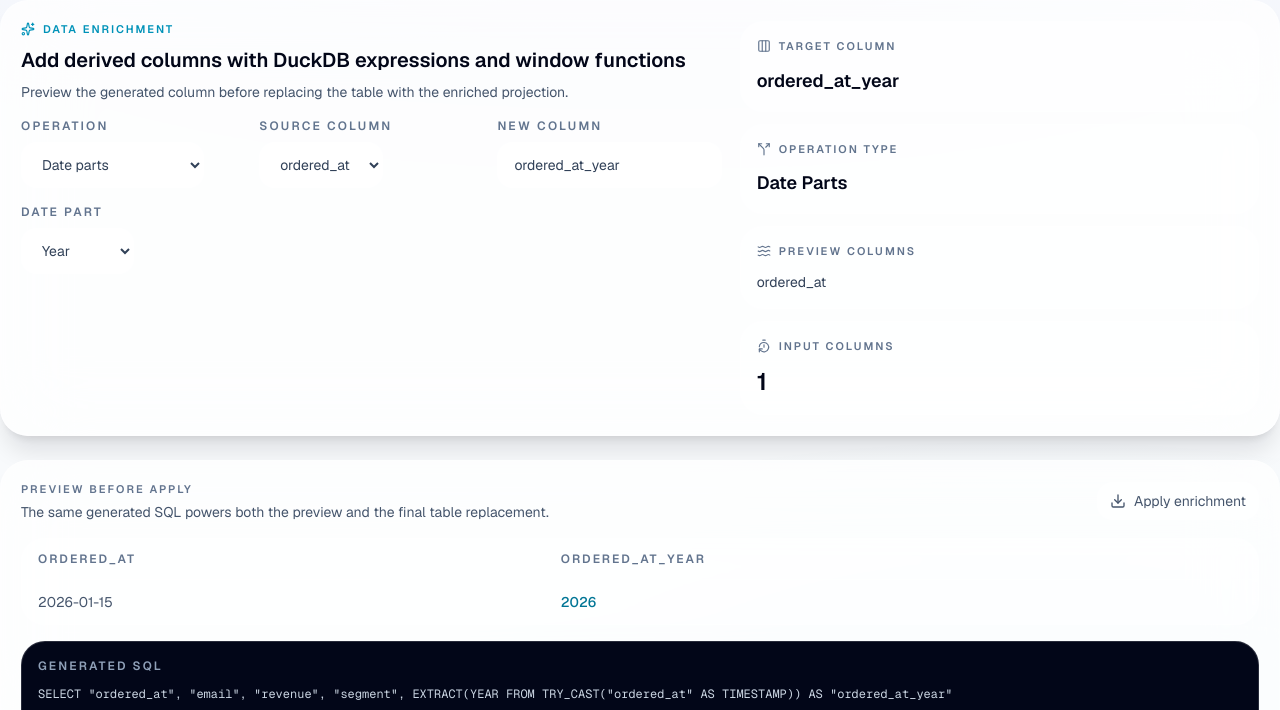
it: DataEnrichment › applies the enrichment and replaces the underlying table
Expected: the text "Apply enrichment" is shown, [1110,491,1246,511]
What coordinates should you click on to do the following:
click the button "Apply enrichment"
I would click on:
 (1178, 501)
Its box is [1097,482,1259,520].
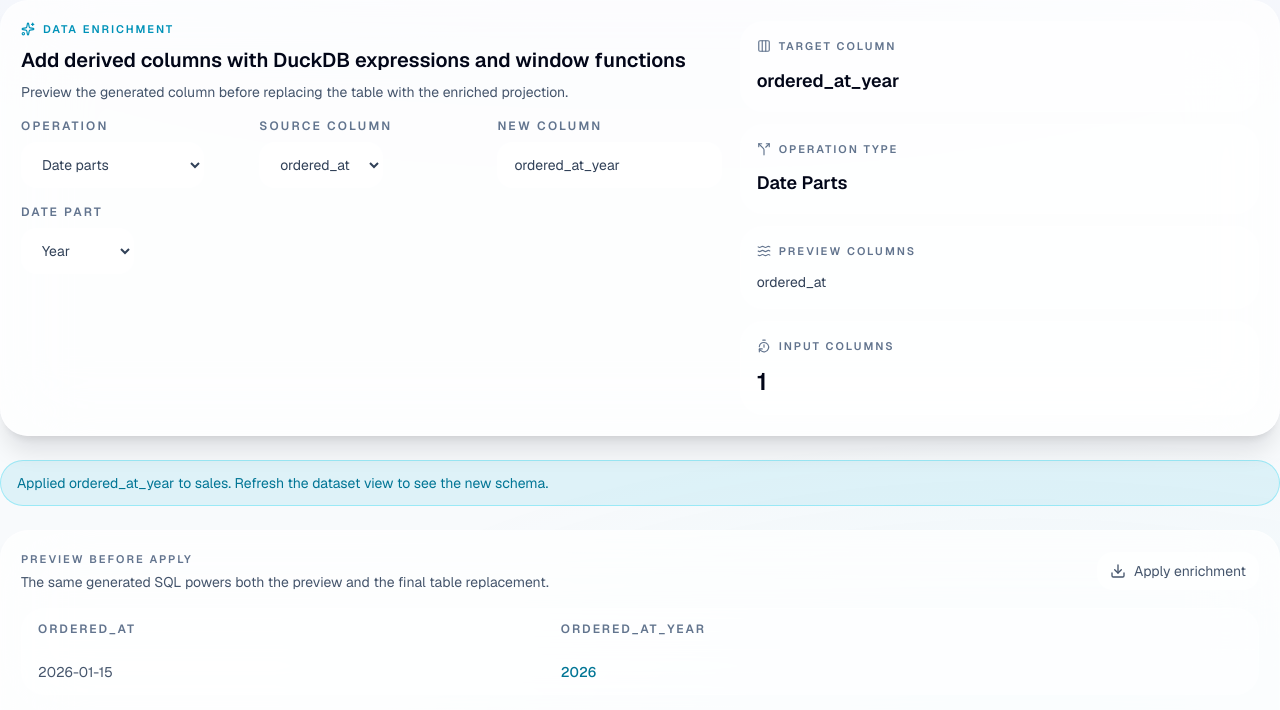
Result: the text "Applied ordered_at_year to sales. Refresh the dataset view to see the new schema." is shown at [17,474,548,492]
